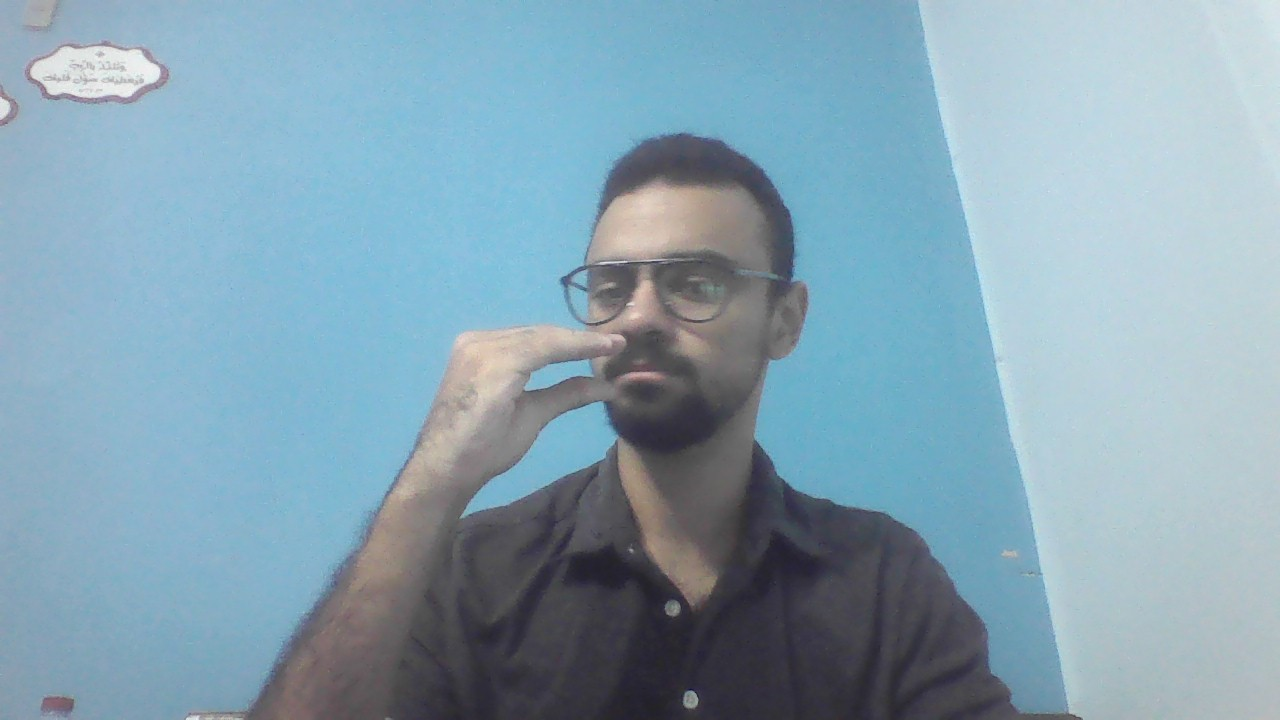eat: (423, 324, 623, 477)
